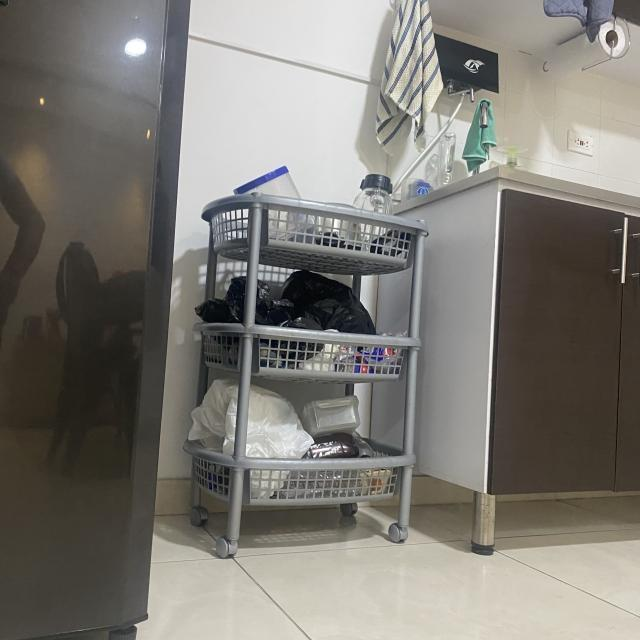obstacle: (165, 142, 444, 570), (387, 174, 640, 548)
